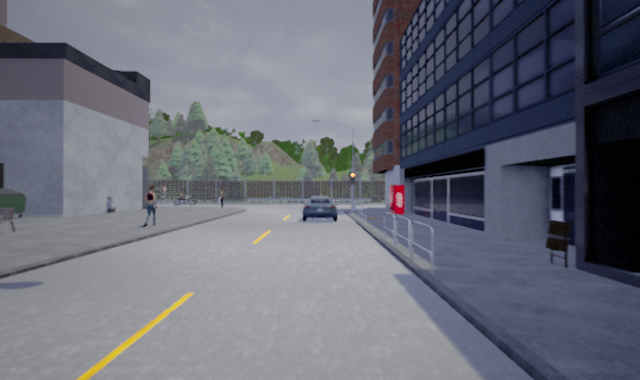pedestrian: (137, 184, 161, 227), (217, 187, 227, 207)
vehicle: (301, 195, 338, 222)
